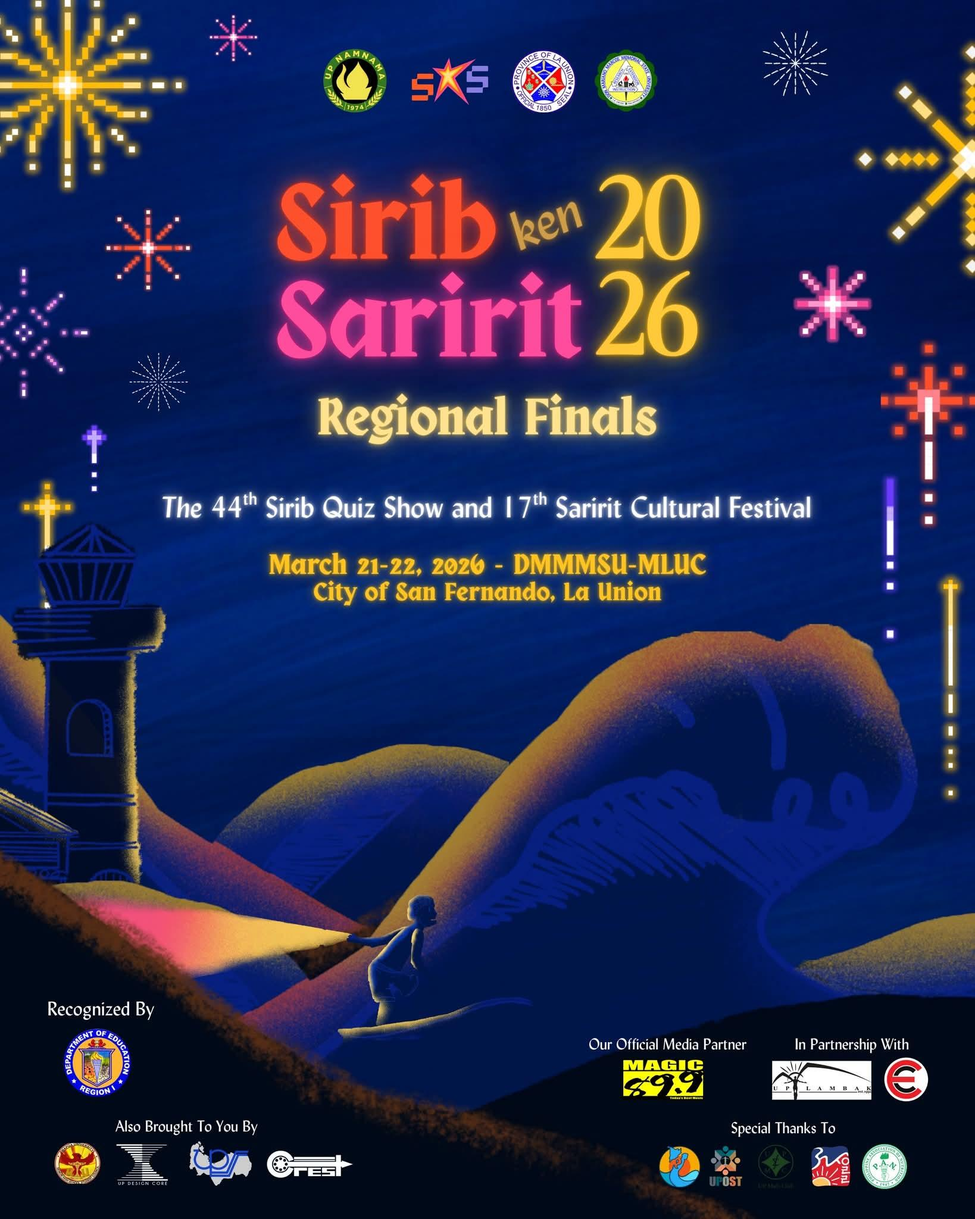embellishment: (3, 2, 189, 193), (854, 36, 974, 275), (877, 338, 975, 530), (0, 257, 95, 404), (101, 203, 198, 296), (17, 469, 78, 612), (793, 264, 875, 348), (935, 568, 963, 809), (758, 30, 833, 99), (125, 345, 194, 414), (877, 470, 903, 644), (207, 9, 260, 66), (77, 419, 112, 494)
logo: (317, 40, 393, 119), (59, 1025, 136, 1100), (404, 49, 497, 110), (767, 1056, 877, 1105), (507, 45, 579, 118), (590, 48, 664, 115), (618, 1056, 709, 1104), (185, 1138, 255, 1191), (264, 1145, 354, 1182), (111, 1140, 176, 1190), (51, 1137, 104, 1188), (860, 1141, 910, 1192), (881, 1053, 930, 1105), (751, 1141, 800, 1193), (807, 1143, 854, 1190), (656, 1142, 702, 1190), (706, 1143, 744, 1189)
text: (269, 158, 715, 449), (156, 481, 823, 530), (262, 542, 715, 607), (582, 1031, 756, 1056), (111, 1113, 267, 1138), (40, 993, 162, 1023), (724, 1115, 846, 1140), (789, 1032, 916, 1054)
